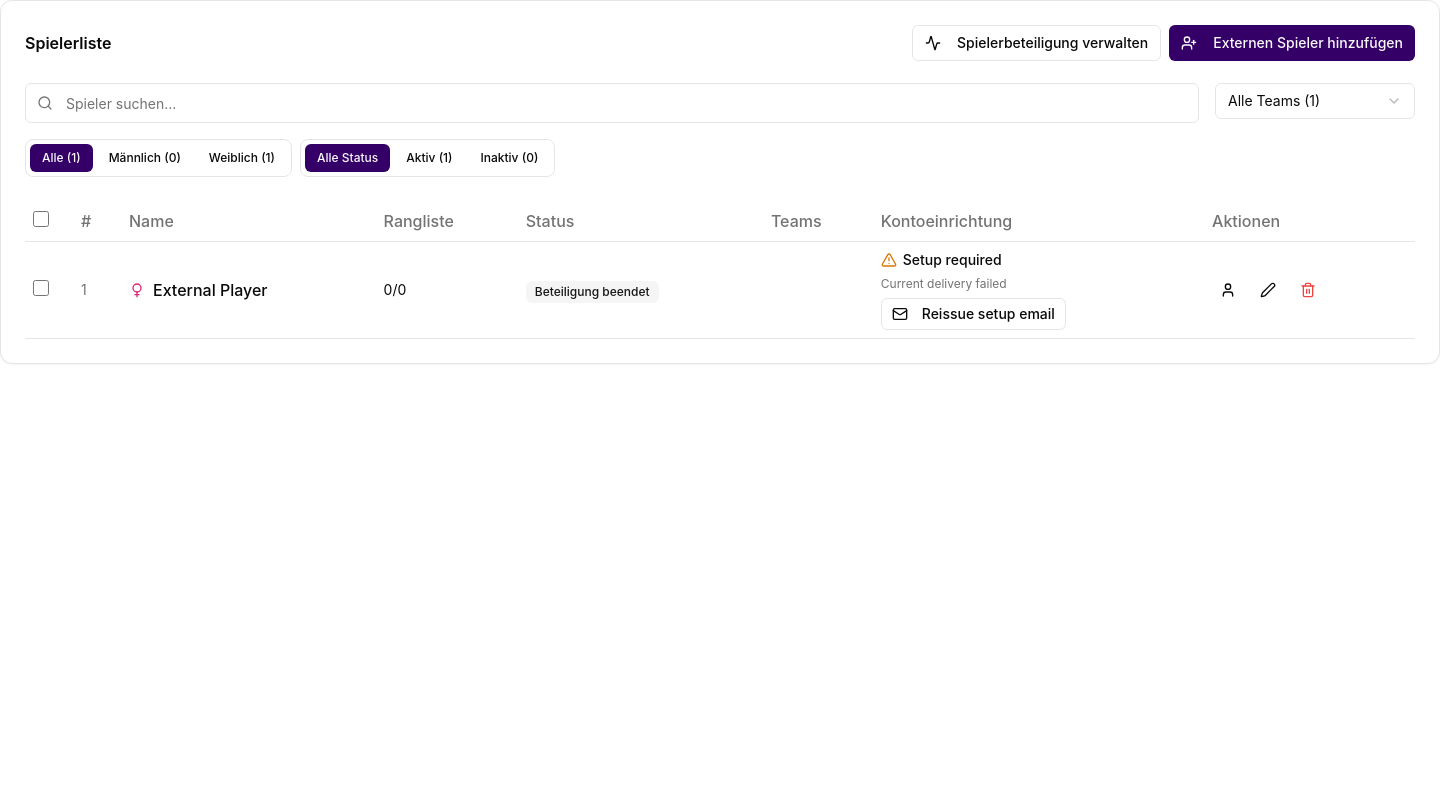
Test case: PlayersTab External Player administration › uses the active locale for irreversible Player cleanup controls
Click the button named "Spielerdatensatz von External Player dauerhaft bereinigen": click(1308, 290) [1292,274,1324,306]
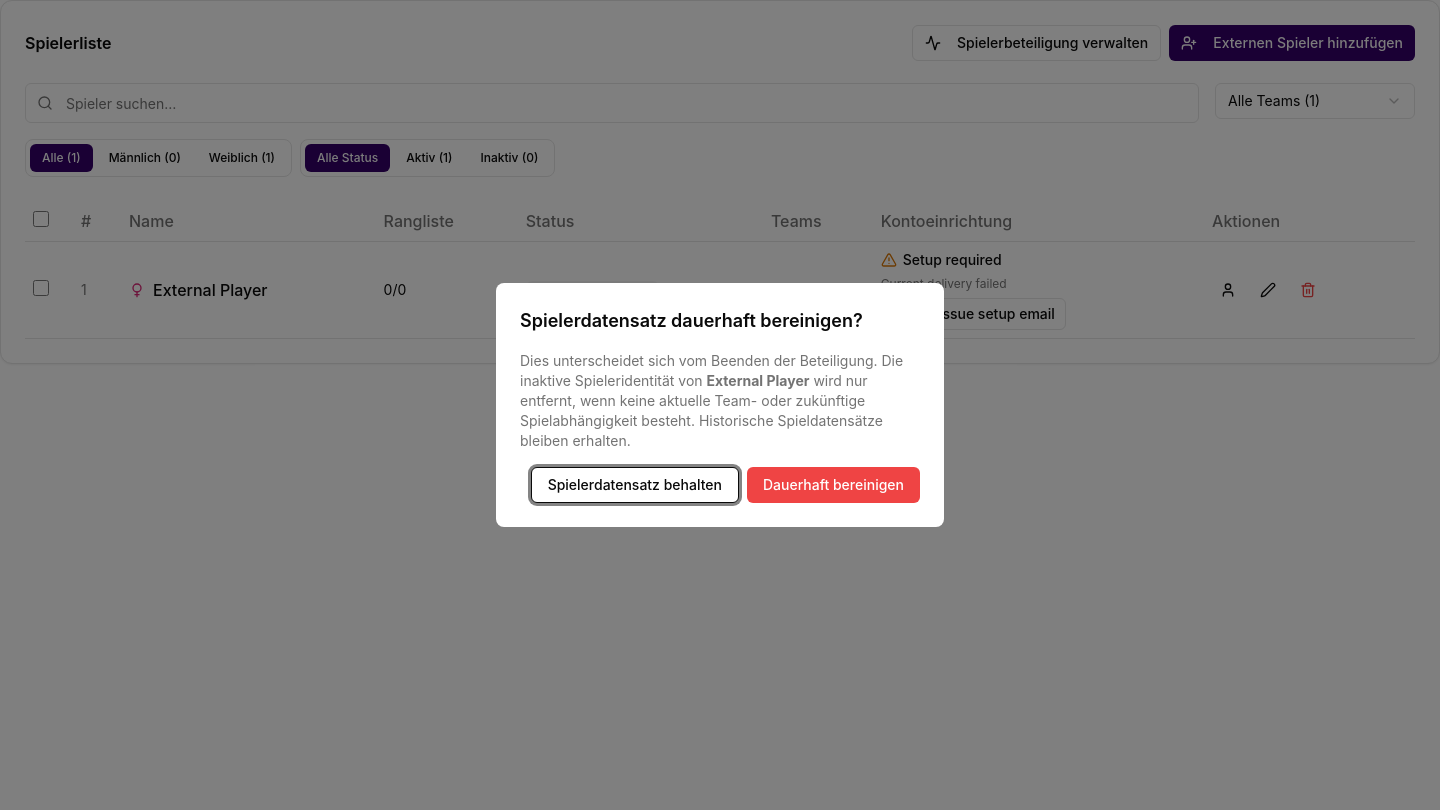
expect the dialog "Spielerdatensatz dauerhaft bereinigen?" is shown: met, box [16,283,1424,527]
expect the button "Dauerhaft bereinigen" is shown: met, box [747,467,920,503]
